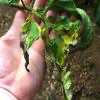Potato leaf early blight: (45, 37, 75, 99), (17, 9, 43, 74), (56, 15, 79, 49)
